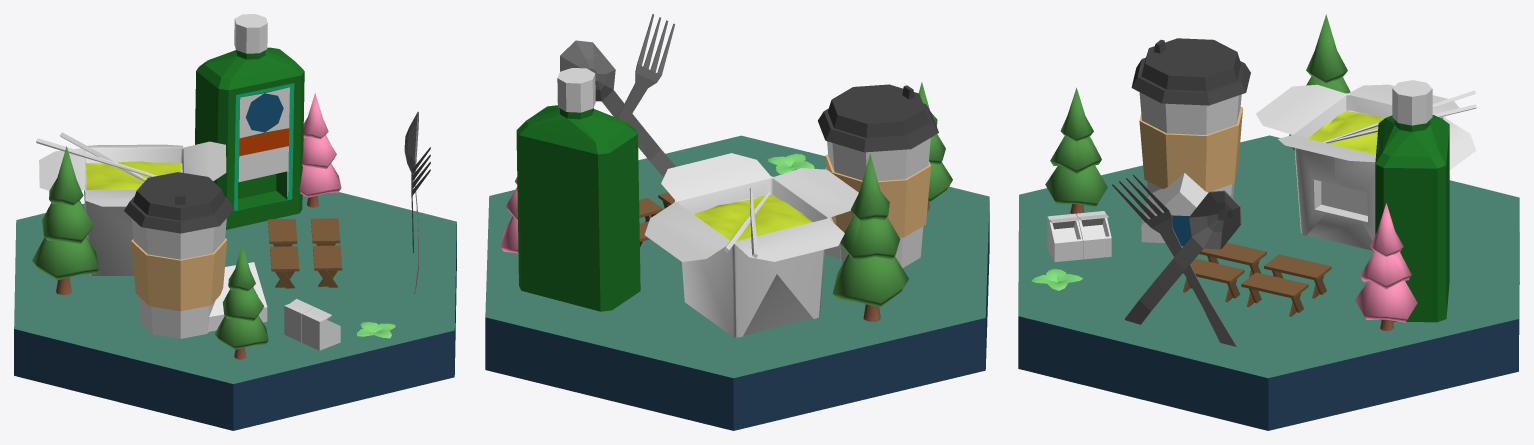
Rendered from Macro - Restaurant lvl 3 WM1.fbx.
3 renders of one model, left to right at view 1: azimuth 30°, elevation 25°; view 2: azimuth 150°, elevation 25°; view 3: azimuth 270°, elevation 25°, orthographic. The views are drawn at different scales.
Parts seen in each view (by area): view 1: Cylinder.176, drink_001.001, coffee_001.002, Cube.108, Tree_Spruce_tiny_01.001, Tree_Spruce_tiny_01.002, Tree_Spruce_tiny_01.003, Cube.001, Cube.003, table.003, table.002, Plane.116 (+5 smaller); view 2: Cylinder.176, Cube.108, drink_001.001, coffee_001.002, Tree_Spruce_tiny_01.001, Plane.116, Plane.117, Tree_Spruce_tiny_01.002, Tree_Spruce_tiny_01.003, Plane.011; view 3: Cylinder.176, Cube.108, coffee_001.002, drink_001.001, Tree_Spruce_tiny_01.003, Tree_Spruce_tiny_01.002, Plane.116, Plane.117, Cube.003, Tree_Spruce_tiny_01.001, Cube.001, table.001 (+5 smaller).
Boxes of the visible parts, <box> form: Cylinder.176: <box>14,192,456,430</box>; drink_001.001: <box>195,14,304,229</box>; coffee_001.002: <box>124,172,234,338</box>; Cube.108: <box>36,132,226,275</box>; Tree_Spruce_tiny_01.001: <box>32,146,99,294</box>; Tree_Spruce_tiny_01.002: <box>215,245,268,359</box>; Tree_Spruce_tiny_01.003: <box>299,92,341,207</box>; Cube.001: <box>302,307,340,350</box>; Cube.003: <box>207,262,267,331</box>; table.003: <box>270,246,299,288</box>; table.002: <box>313,245,342,287</box>; Plane.116: <box>404,111,418,293</box>; Cylinder.176: <box>485,135,989,430</box>; Cube.108: <box>644,153,858,337</box>; drink_001.001: <box>516,68,640,311</box>; coffee_001.002: <box>818,84,938,267</box>; Tree_Spruce_tiny_01.001: <box>832,153,908,321</box>; Plane.116: <box>560,40,675,176</box>; Plane.117: <box>617,14,674,122</box>; Tree_Spruce_tiny_01.002: <box>919,82,952,210</box>; Tree_Spruce_tiny_01.003: <box>500,177,518,253</box>; Plane.011: <box>767,153,814,174</box>; Cylinder.176: <box>1018,135,1519,430</box>; Cube.108: <box>1256,84,1476,250</box>; coffee_001.002: <box>1131,38,1250,197</box>; drink_001.001: <box>1375,80,1449,322</box>; Tree_Spruce_tiny_01.003: <box>1355,203,1417,331</box>; Tree_Spruce_tiny_01.002: <box>1045,87,1107,214</box>; Plane.116: <box>1125,190,1241,324</box>; Plane.117: <box>1112,174,1236,346</box>; Cube.003: <box>1141,173,1208,243</box>; Tree_Spruce_tiny_01.001: <box>1289,14,1350,151</box>; Cube.001: <box>1047,213,1082,261</box>; table.001: <box>1241,272,1308,316</box>.
Bounding box in the file's own units: 197 × 101 × 172.
